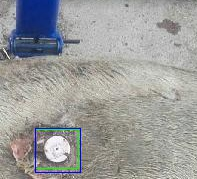text: (35, 129, 78, 168)
